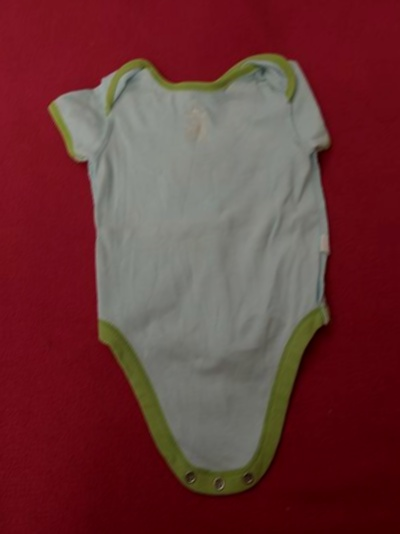Body: (25, 20, 354, 514)
